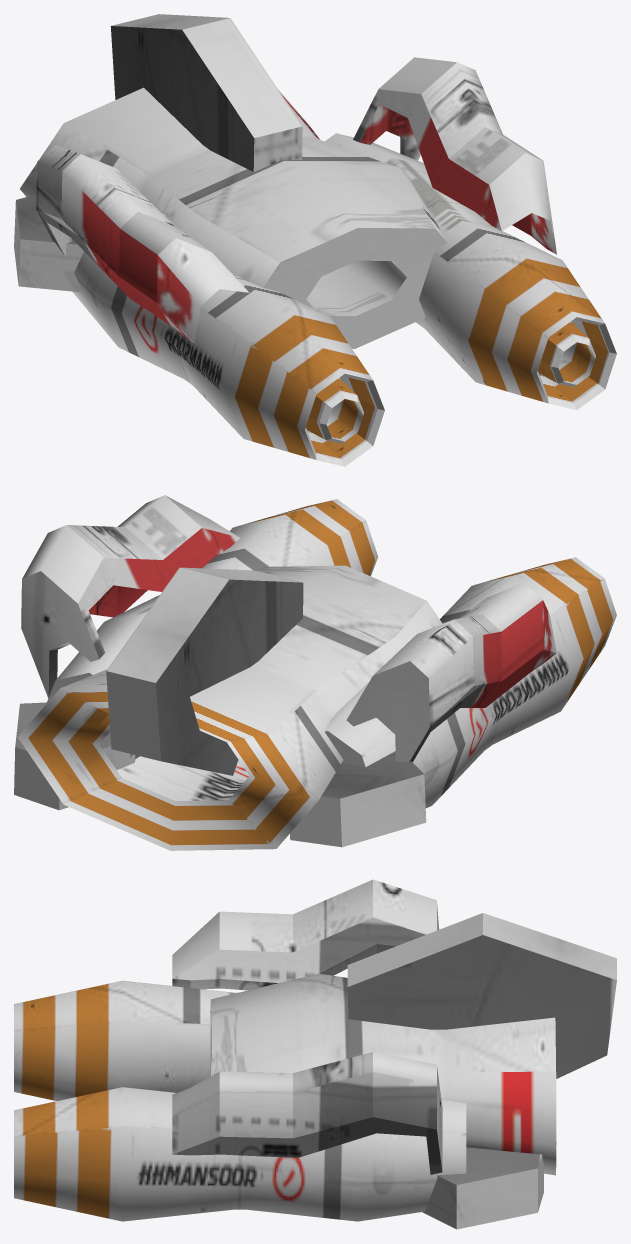
File: option.fbx
3 views of the same model, one above another, from view 1: azimuth 30°, elevation 25°; view 2: azimuth 150°, elevation 25°; view 3: azimuth 270°, elevation 25° (orthographic). The views are drawn at different scales.
Visible parts, largest first — view 1: polySurface35; view 2: polySurface35; view 3: polySurface35.
Part boxes in pixels (x1,y1,x2,y2): polySurface35: (14, 14, 616, 466); polySurface35: (14, 495, 616, 850); polySurface35: (14, 879, 616, 1229).
Size of the model in its own units: 531 by 315 by 711.
